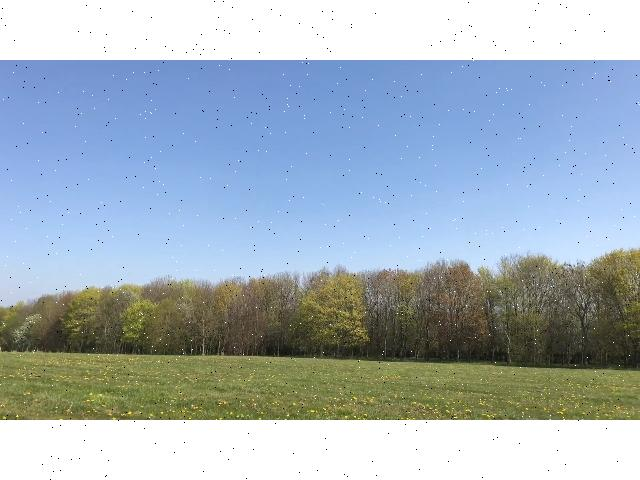Anti-Drone: (316, 196, 332, 212)
